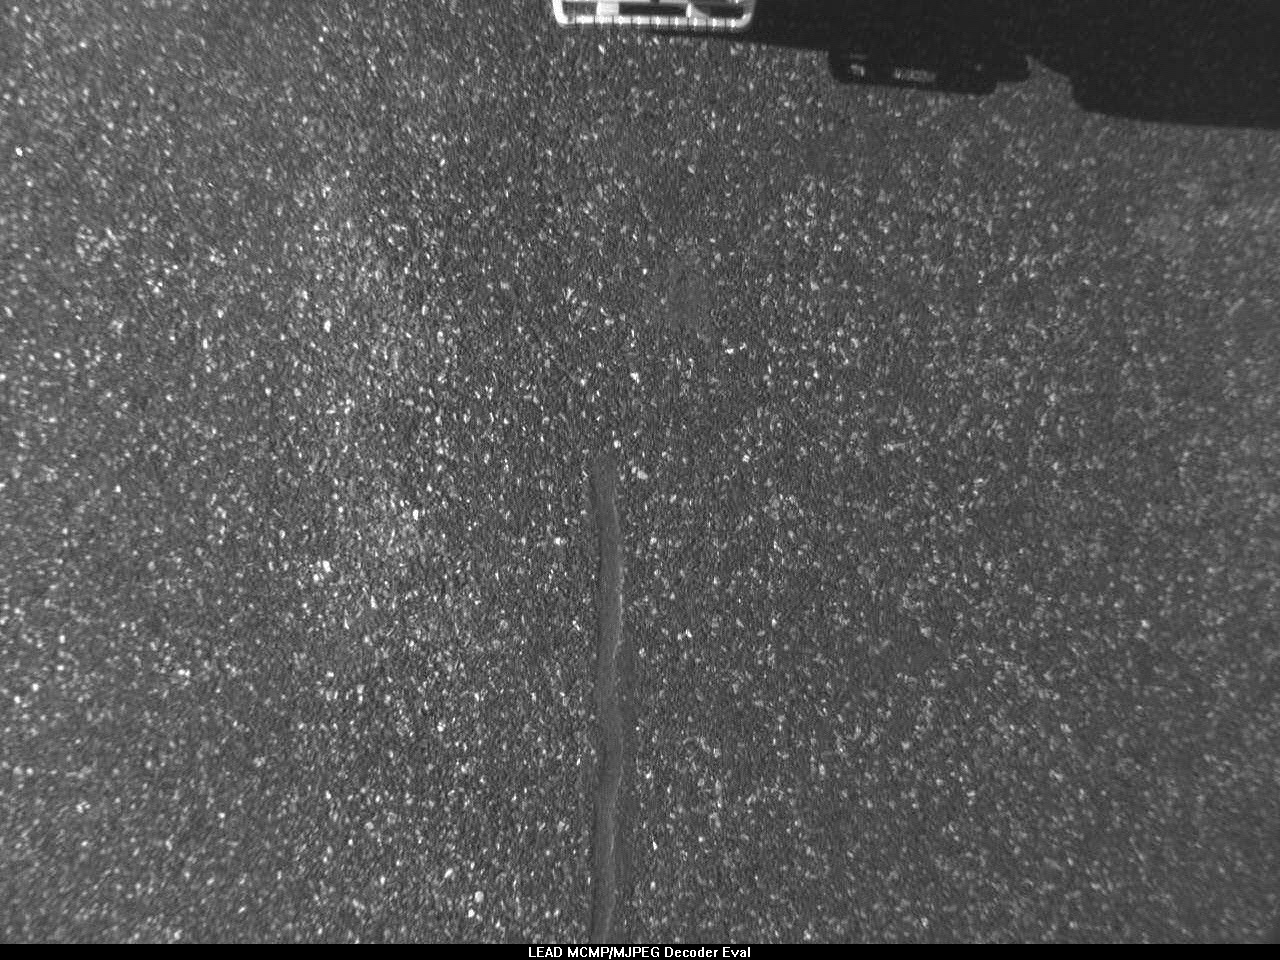sealed: (583, 452, 631, 937)
